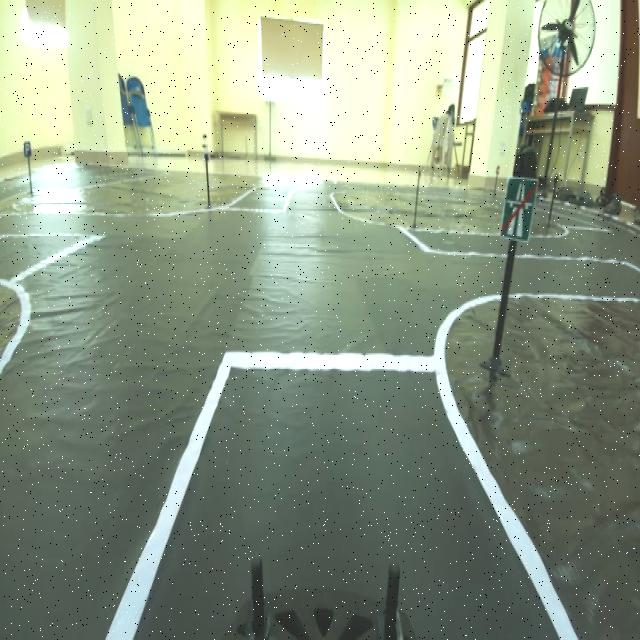highway_exit: (498, 168, 540, 253)
